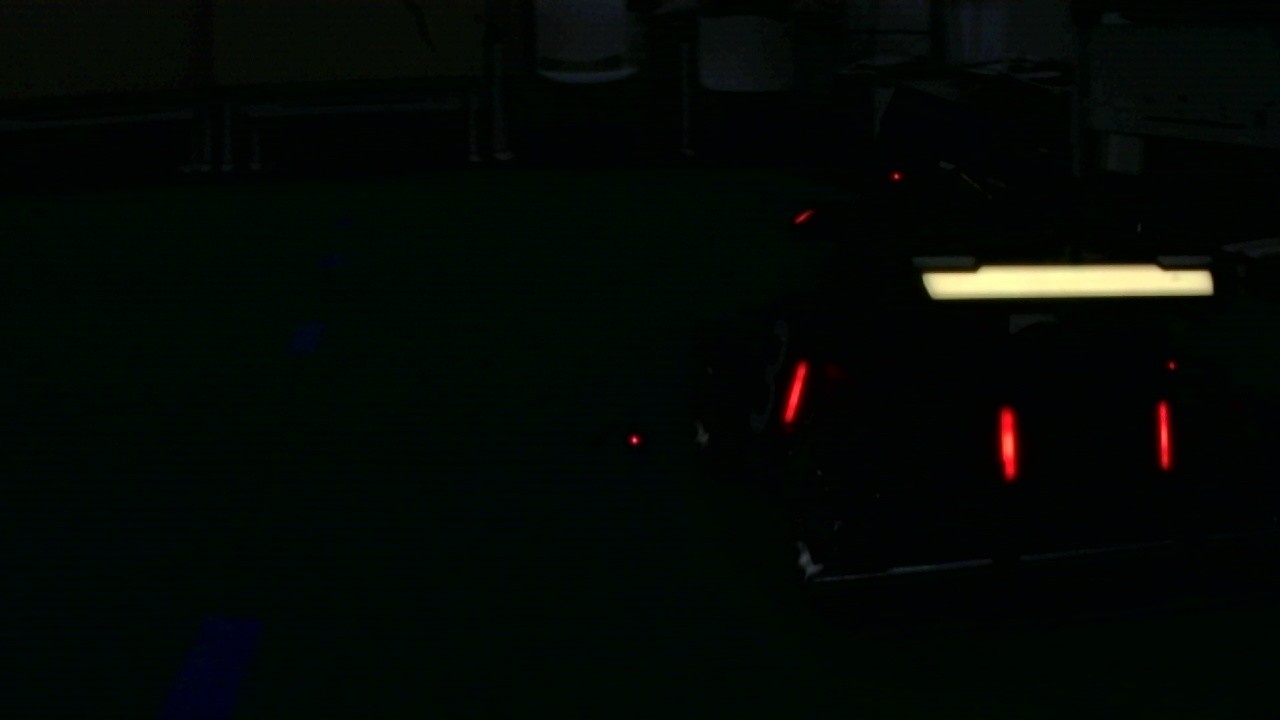lamp: (776, 351, 811, 427)
notpair1: (779, 355, 1020, 483)
pair1: (996, 402, 1174, 476)
